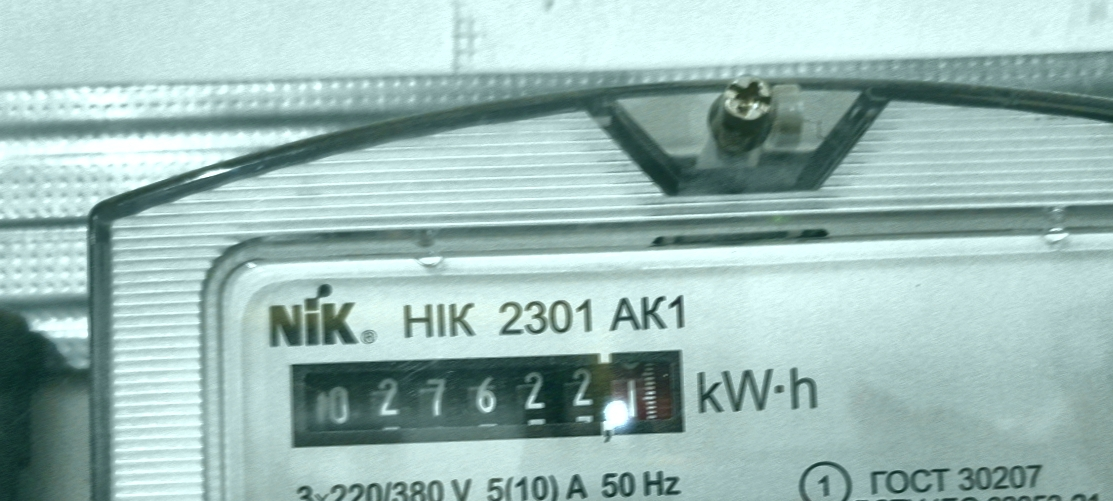0: (326, 382, 351, 425)
1: (623, 376, 640, 419)
2: (521, 369, 546, 411), (376, 375, 400, 418), (570, 365, 594, 407)
6: (474, 373, 497, 414)
7: (424, 376, 449, 419)
screen: (278, 339, 698, 454)
